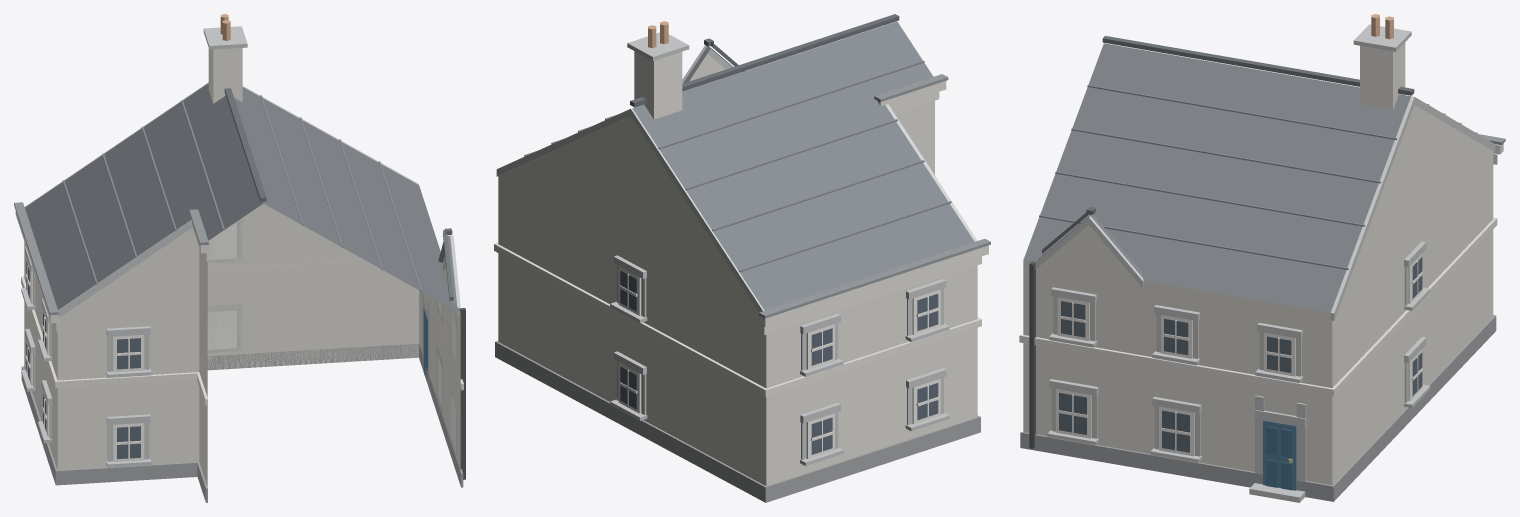
3 views of the same model, side by side, from view 1: azimuth 30°, elevation 25°; view 2: azimuth 150°, elevation 25°; view 3: azimuth 270°, elevation 25° (orthographic). The views are drawn at different scales.
Parts seen in each view (by area): view 1: harl_grey, slate, stone_band, plinth, frame, string, slate_lt, chim_render, lead, slate_dk, pipe, window_glass_012 (+1 smaller); view 2: harl_grey, slate, stone_band, string, plinth, frame, slate_lt, chim_render, lead, slate_dk, window_glass_009, window_glass_011 (+3 smaller); view 3: harl_grey, slate, stone_band, plinth, string, frame, slate_lt, chim_render, slate_dk, door_blue_p, pipe, door_blue (+5 smaller).
Part boxes in pixels (left/top/right/bottom): harl_grey: left=24, top=203, right=460, bottom=486; slate: left=25, top=83, right=460, bottom=313; stone_band: left=21, top=26, right=460, bottom=467; plinth: left=21, top=343, right=463, bottom=502; frame: left=25, top=222, right=456, bottom=461; string: left=15, top=211, right=463, bottom=405; slate_lt: left=62, top=95, right=422, bottom=291; chim_render: left=208, top=48, right=242, bottom=103; lead: left=14, top=202, right=208, bottom=315; slate_dk: left=224, top=88, right=453, bottom=300; pipe: left=459, top=308, right=465, bottom=479; window_glass_012: left=117, top=426, right=140, bottom=459; harl_grey: left=498, top=54, right=977, bottom=485; slate: left=632, top=21, right=974, bottom=310; stone_band: left=496, top=32, right=977, bottom=465; string: left=494, top=81, right=988, bottom=396; plinth: left=495, top=341, right=980, bottom=502; frame: left=618, top=266, right=940, bottom=458; slate_lt: left=524, top=60, right=951, bottom=272; chim_render: left=634, top=51, right=682, bottom=119; lead: left=759, top=74, right=990, bottom=318; slate_dk: left=630, top=14, right=899, bottom=107; window_glass_009: left=811, top=328, right=832, bottom=365; window_glass_011: left=917, top=294, right=938, bottom=330; harl_grey: left=1023, top=105, right=1493, bottom=485; slate: left=1023, top=43, right=1410, bottom=312; stone_band: left=1035, top=24, right=1495, bottom=502; plinth: left=1020, top=315, right=1496, bottom=501; string: left=1019, top=144, right=1503, bottom=396; frame: left=1056, top=253, right=1422, bottom=456; slate_lt: left=1039, top=85, right=1477, bottom=269; chim_render: left=1360, top=42, right=1405, bottom=109; slate_dk: left=1042, top=36, right=1414, bottom=253; door_blue_p: left=1266, top=426, right=1292, bottom=490; pipe: left=1029, top=261, right=1035, bottom=448; door_blue: left=1263, top=420, right=1296, bottom=490.
Bounding box in the file's own units: 13.8 × 11.54 × 12.92.
